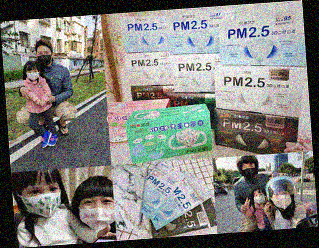with_mask: (21, 183, 62, 219), (77, 196, 116, 231), (270, 191, 293, 211), (36, 49, 52, 67), (241, 163, 258, 179), (25, 69, 40, 82), (253, 192, 266, 205)
